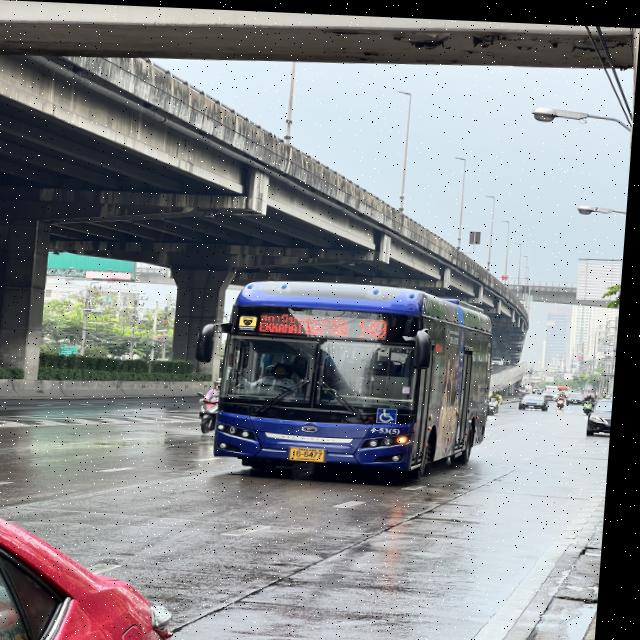Bus Line Number: (358, 310, 399, 340)
Bus Side Number: (373, 421, 408, 432)
Destination Sign: (259, 308, 356, 337)
TSB-Bus: (215, 278, 498, 476)
